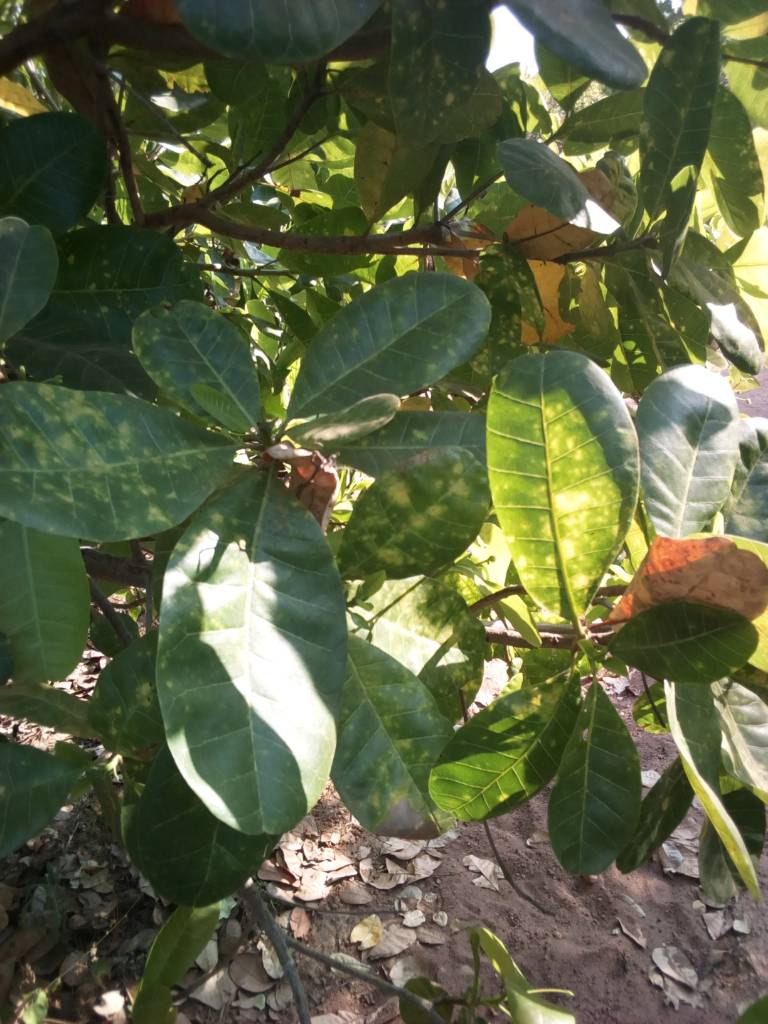Carence minérale: (486, 350, 674, 617), (7, 374, 252, 563), (290, 253, 552, 417), (321, 430, 536, 583), (118, 296, 279, 427)
